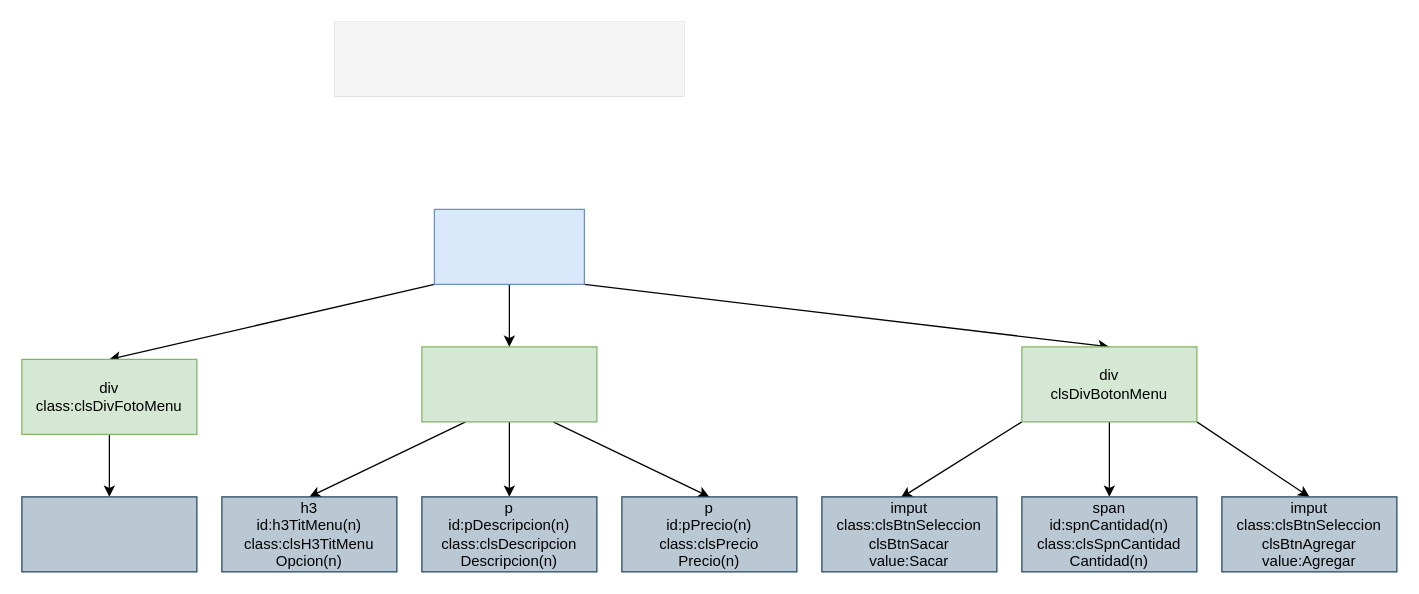
Some shapes in this 1419 by 594 pixel diagram are drawn without their labels. The centre of each missing label's shape, as x and y in pixels:
div clsDivDescMenu: [509,384]
div id:divMenu(n) class:clsDivMenu: [508,246]
img class:clsImgFotoMenu src:foto(n) alt:plato(n): [109,534]
Producto a Comercializar: [509,58]
